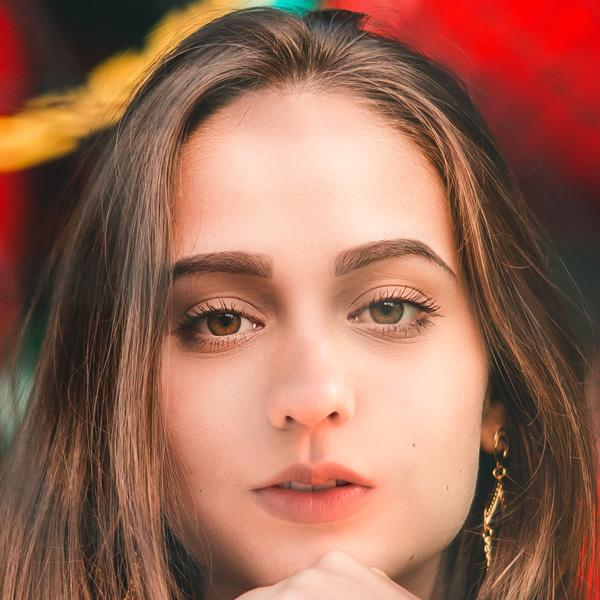Eyes: (322, 272, 456, 351), (162, 285, 279, 365)
